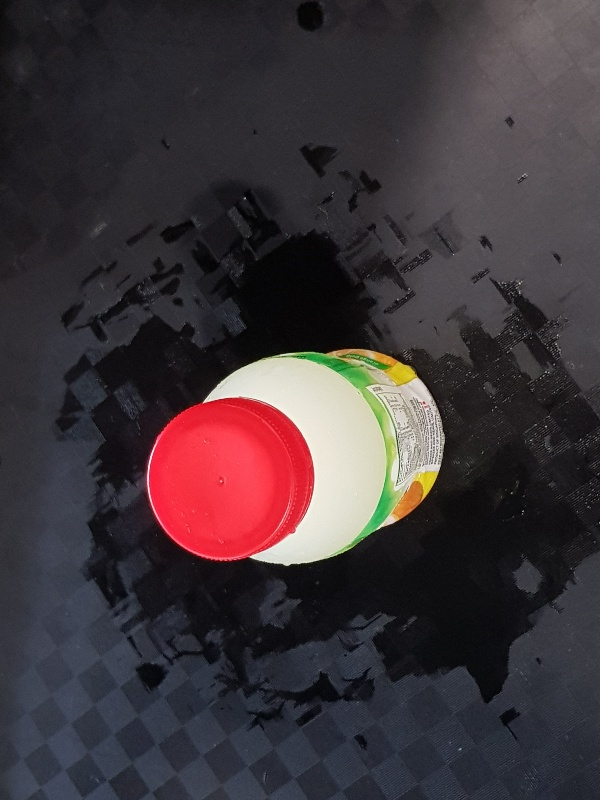Fruit Tree Yuzu Mixed Juice Drink: (145, 345, 443, 568)
